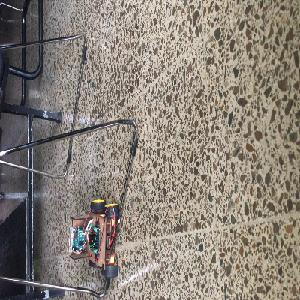Robot: (68, 197, 121, 277)
